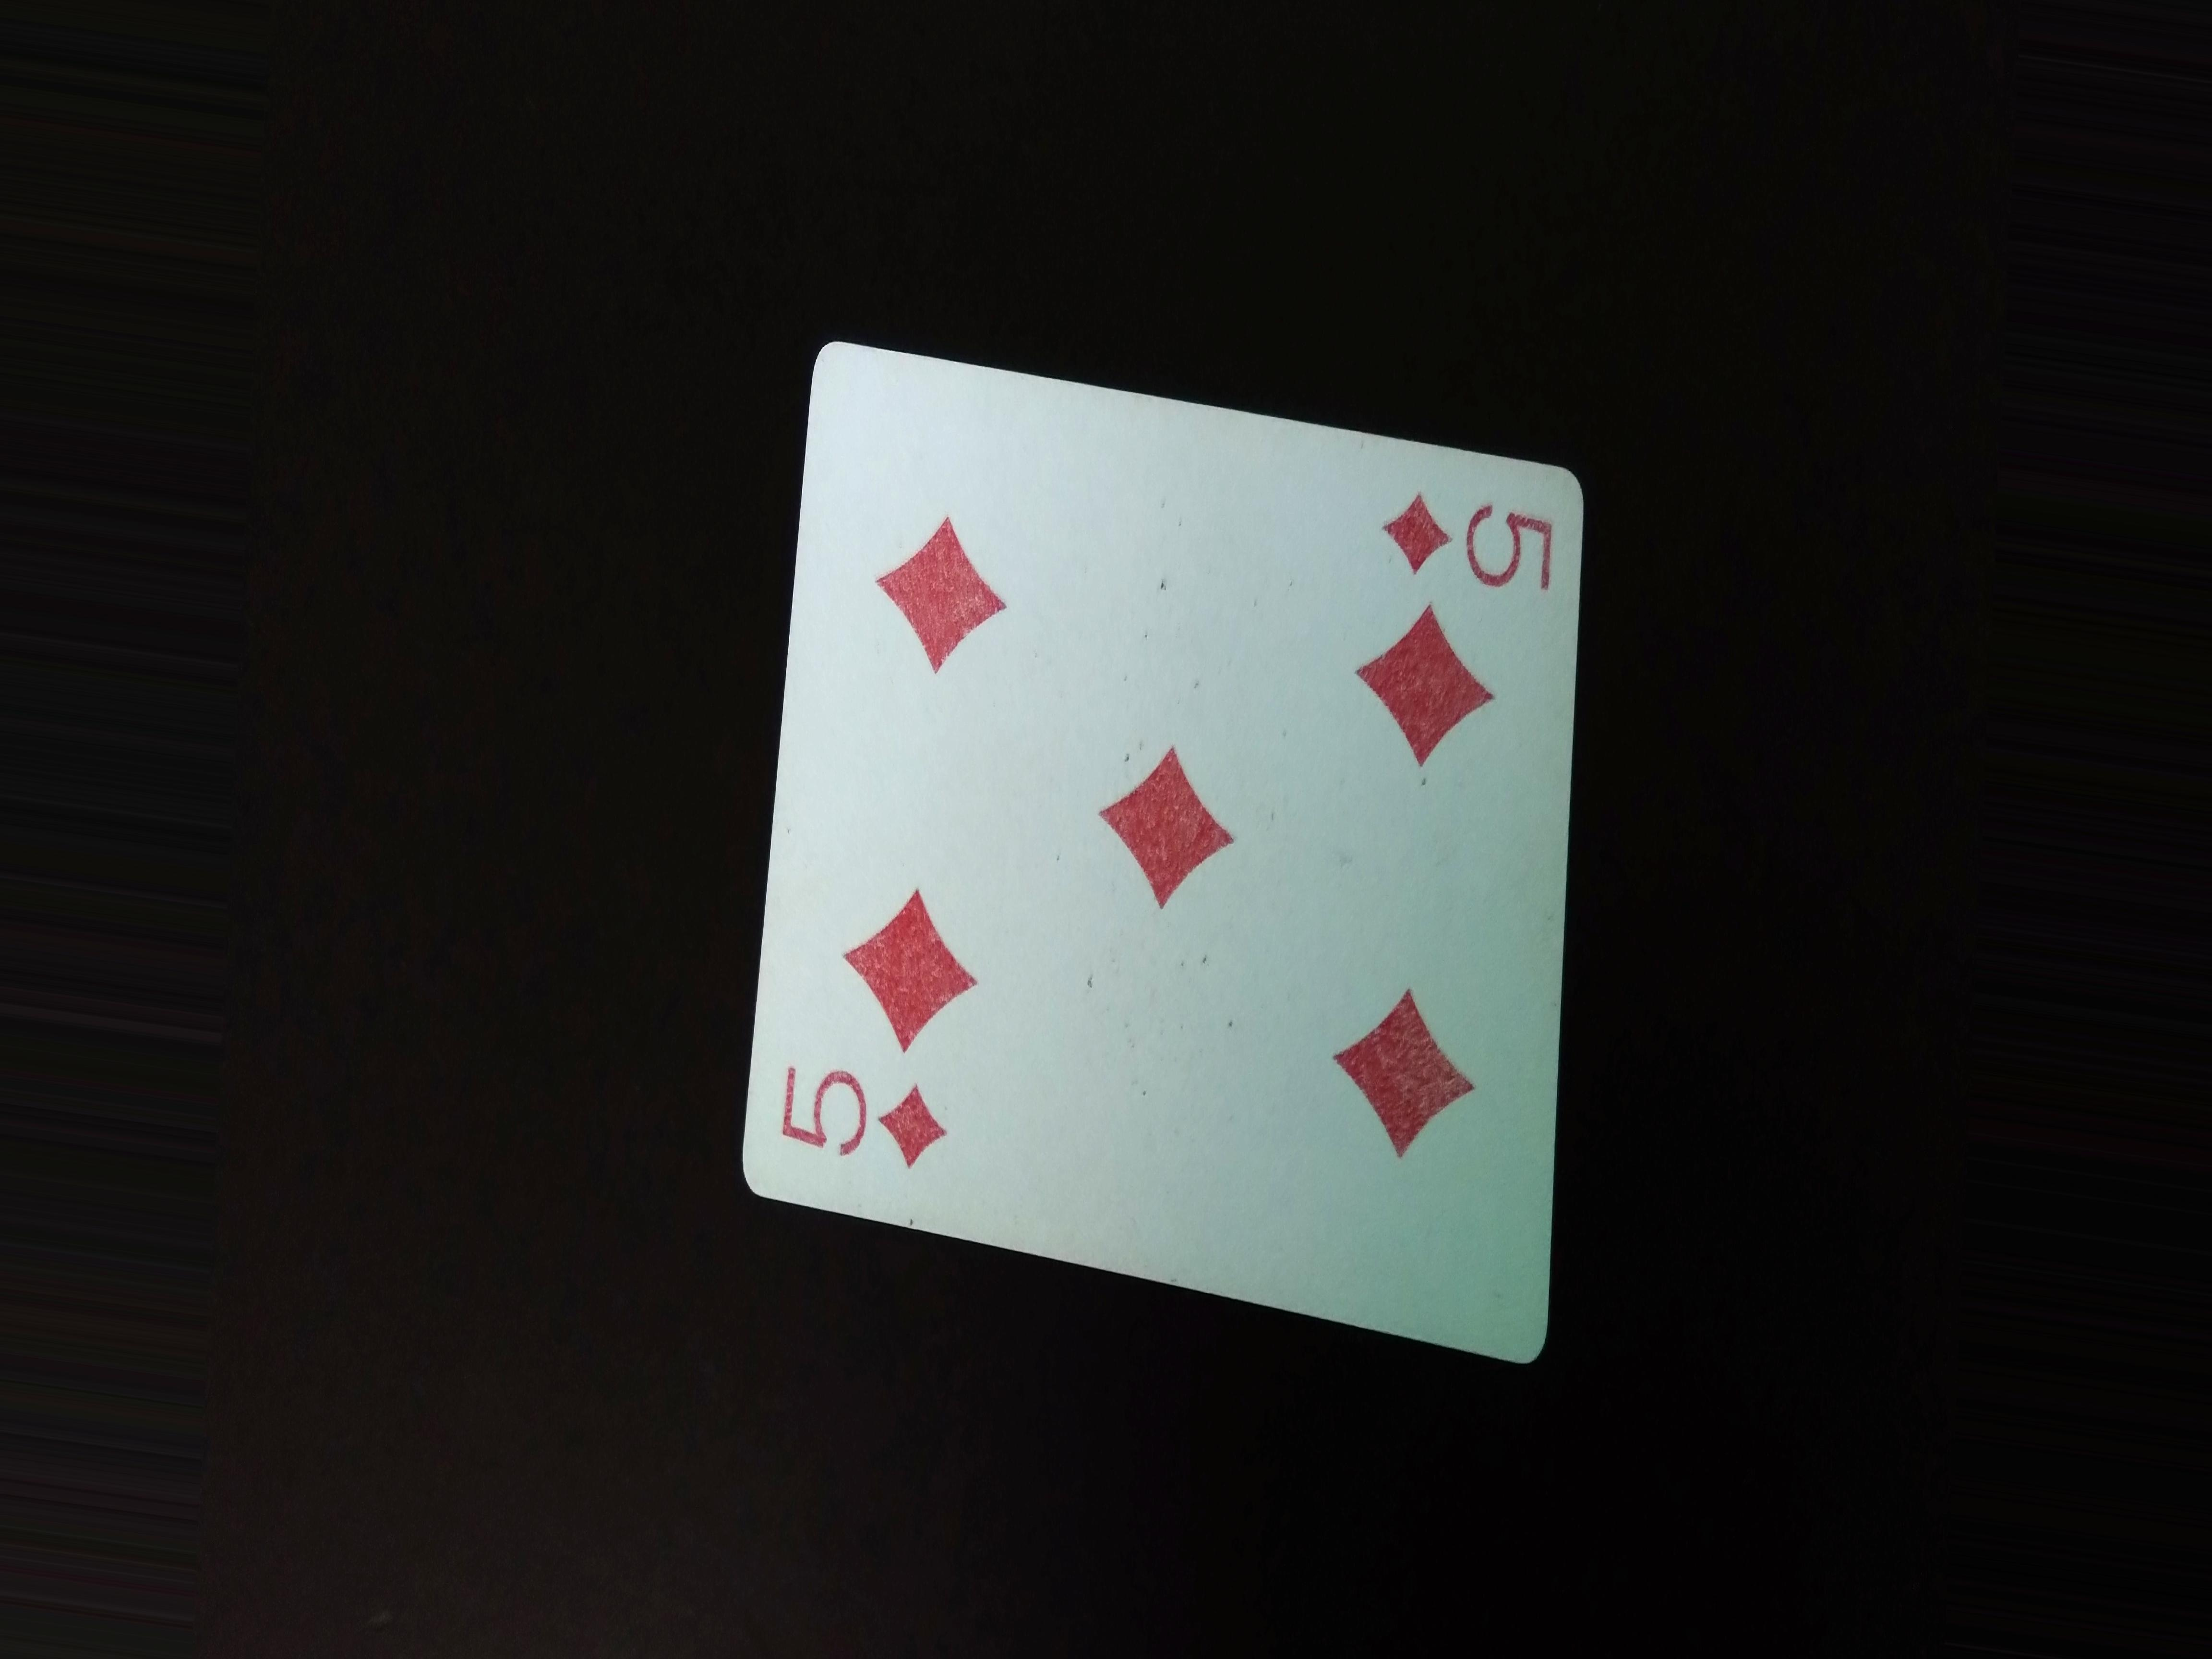5D: (1360, 476, 1562, 591)
